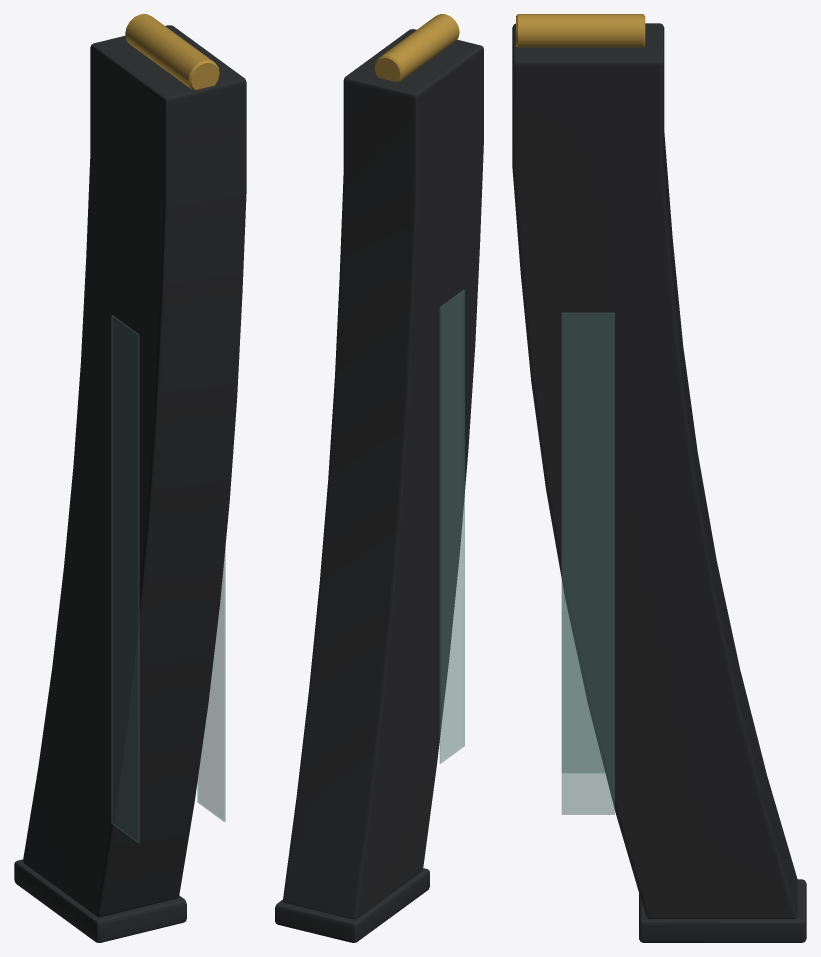
Rendered from mod_tern_extended_mag.glb.
3 views of the same model, side by side, from view 1: azimuth 30°, elevation 25°; view 2: azimuth 150°, elevation 25°; view 3: azimuth 270°, elevation 25° (orthographic). The views are drawn at different scales.
Parts seen in each view (by area): view 1: Magazine, MagazineWindow, MagazineRound; view 2: Magazine, MagazineWindow, MagazineRound; view 3: Magazine, MagazineWindow, MagazineRound.
Part boxes in pixels (bbox=[...]): Magazine: bbox=[14, 25, 246, 942]; MagazineWindow: bbox=[111, 315, 225, 842]; MagazineRound: bbox=[125, 14, 219, 90]; Magazine: bbox=[275, 29, 483, 942]; MagazineWindow: bbox=[439, 290, 464, 763]; MagazineRound: bbox=[374, 14, 459, 81]; Magazine: bbox=[512, 23, 806, 942]; MagazineWindow: bbox=[561, 312, 614, 814]; MagazineRound: bbox=[516, 14, 645, 47].
Bounding box in the file's own units: 0.0264 × 0.2532 × 0.0744.
